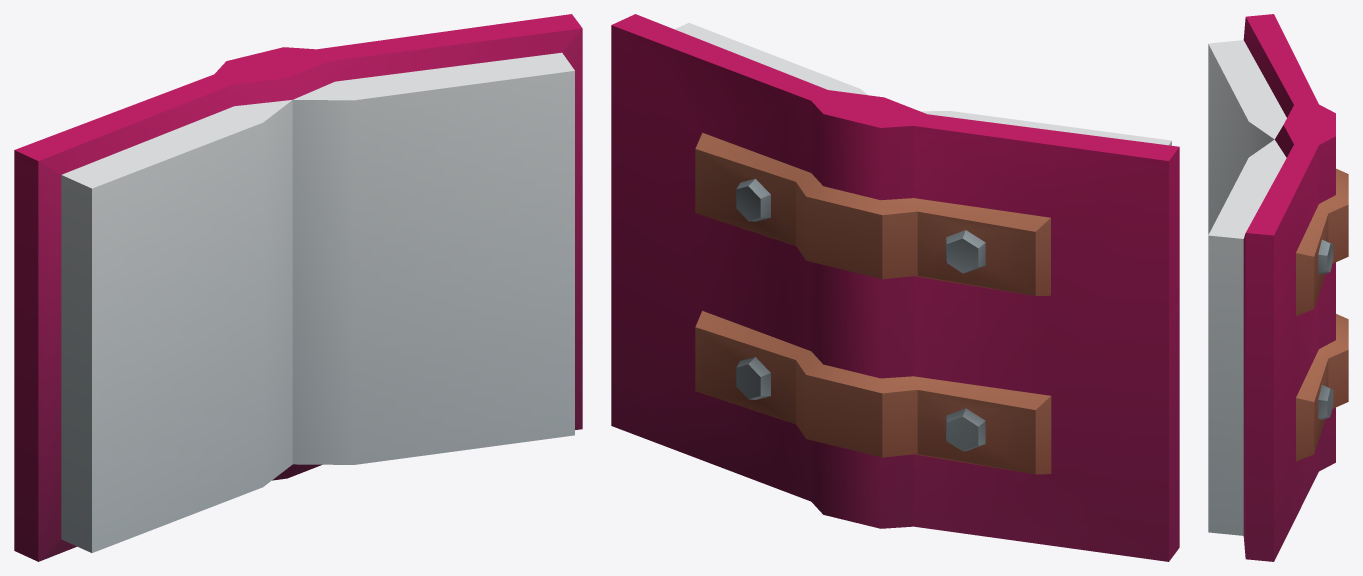
File: spellbook_open.glb
3 views of the same model, side by side, from view 1: azimuth 30°, elevation 25°; view 2: azimuth 150°, elevation 25°; view 3: azimuth 270°, elevation 25° (orthographic). The views are drawn at different scales.
Size of the model in its own units: 0.8282 by 0.5688 by 0.2219.
1 material, 1 textured.
